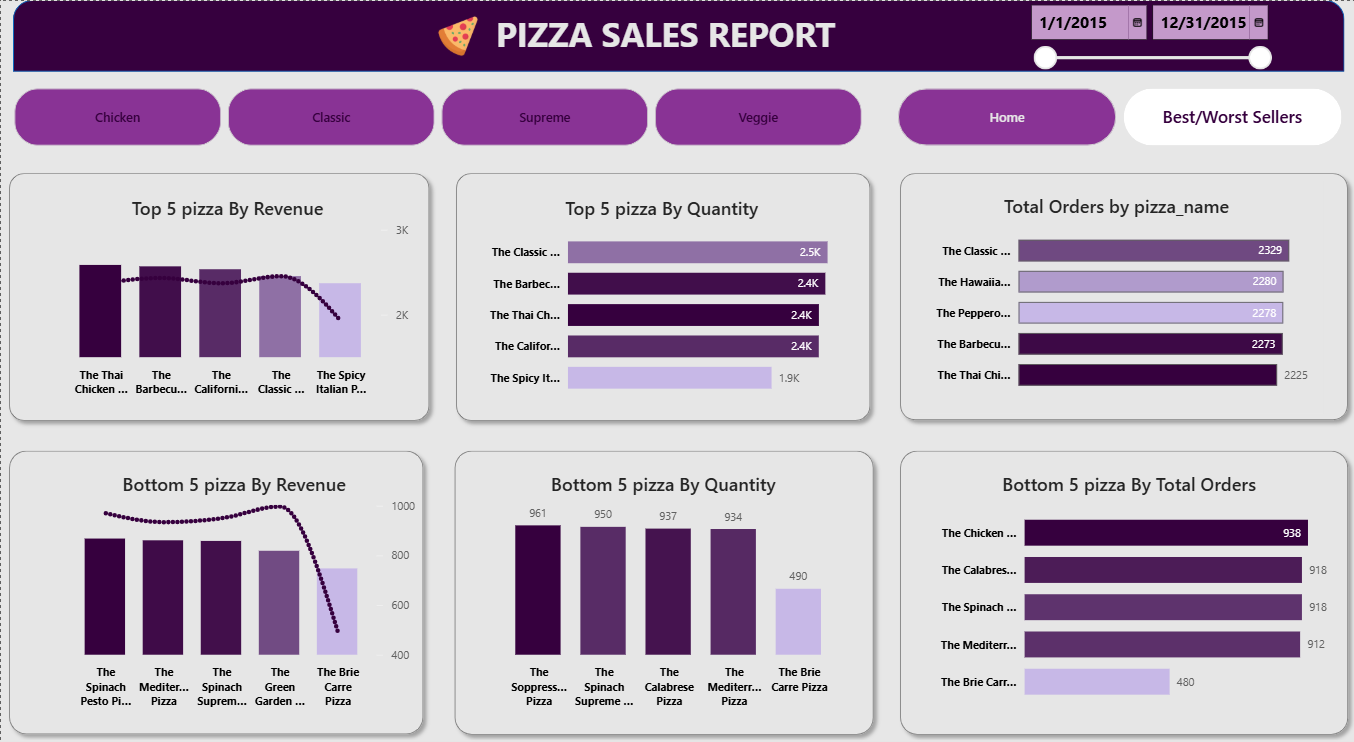

Layout of this report page (visuals, bound fields, positions):
{"tool":"powerbi","page":{"name":"Best/Worst Sellers","canvas":[1500,820],"ordinal":1},"visuals":[{"type":"shape","box":[13.2,0,1471.5,79.2],"z":0},{"type":"shape","box":[494,182.3,475.8,291.8],"z":0,"group":"g1"},{"type":"shape","box":[984.8,182.8,512.8,291],"z":1000},{"type":"shape","box":[0,182.3,482.4,291.8],"z":2000,"group":"g8"},{"type":"textbox","box":[547.1,11.3,445.2,56.6],"z":3000},{"type":"image","box":[483,17,45.3,47.2],"z":4000},{"type":"advancedSlicerVisual","title":"Pizza Category","fields":{"Values":["pizza_sales.pizza_category"]},"box":[14.2,97.6,938.7,63.9],"z":5000},{"type":"slicer","title":"Pizza Category","fields":{"Values":["pizza_sales.order_date"]},"box":[1130.3,0,276.8,79.9],"z":6000},{"type":"pageNavigator","box":[991.9,97.6,491.5,63.9],"z":8000},{"type":"barChart","fields":{"Y":["Table.Total Orders"],"Category":["pizza_sales.pizza_name"]},"box":[1004.6,200.6,456.5,256.5],"z":8000,"group":"g3"},{"type":"group","id":"g1","title":"Group 1","box":[494,182.3,475.8,291.8],"z":9000,"group":"g7"},{"type":"barChart","title":"Top 5 pizza By Quantity ","fields":{"Y":["Sum(pizza_sales.quantity)"],"Category":["pizza_sales.pizza_name"]},"box":[510.6,201.6,439.3,258.3],"z":10000,"group":"g7"},{"type":"lineClusteredColumnComboChart","title":"Top 5 pizza By Revenue","fields":{"Category":["pizza_sales.pizza_name"],"Y":["Table.Total Revenue"],"Y2":["Table.Total Pizzas Sold"]},"box":[33.2,201.6,434.3,254.5],"z":10005,"group":"g2"},{"type":"lineClusteredColumnComboChart","title":"Bottom 5 pizza By Revenue","fields":{"Category":["pizza_sales.pizza_name"],"Y":["Table.Total Revenue"],"Y2":["Table.Total Pizzas Sold"]},"box":[39.6,507.5,435.8,294.3],"z":10005,"group":"g6"},{"type":"barChart","title":"Bottom 5 pizza By Total Orders","fields":{"Y":["Table.Total Orders"],"Category":["pizza_sales.pizza_name"]},"box":[1007.3,507.9,481.1,294.3],"z":10005,"group":"g4"},{"type":"columnChart","title":"Bottom 5 pizza By Quantity","fields":{"Category":["pizza_sales.pizza_name"],"Y":["Sum(pizza_sales.quantity)"]},"box":[511.5,508.8,442.9,294.3],"z":10005,"group":"g5"},{"type":"group","id":"g2","title":"Group 2","box":[33.2,201.6,434.3,254.5],"z":11000,"group":"g8"},{"type":"group","id":"g3","title":"Group 5","box":[1004.6,200.6,457.5,256.9],"z":12000},{"type":"shape","box":[984.8,488.6,513.1,332],"z":13000},{"type":"group","id":"g4","title":"Group 3","box":[991.7,489.9,505.6,330.1],"z":14000},{"type":"shape","box":[492.4,488.6,481.1,332],"z":15000},{"type":"group","id":"g5","title":"Group 3","box":[496.2,489.9,473.5,330.1],"z":16000},{"type":"shape","box":[0,489,475.8,331.5],"z":17000},{"type":"group","id":"g6","title":"Group 3","box":[39.6,507.5,435.8,294.3],"z":17001},{"type":"group","id":"g7","title":"Group 4","box":[494,182.3,475.8,291.8],"z":17002},{"type":"group","id":"g8","title":"Group 6","box":[0,182.3,482.4,291.8],"z":17003}]}

Visuals, with their boxes in screenshot pixels (x1, y1, x2, y2), scaled from the page's 1500x820 canvas onto the 1354x742 screenshot:
shape: crop(12, 0, 1340, 72)
shape: crop(446, 165, 875, 429)
shape: crop(889, 165, 1352, 429)
shape: crop(0, 165, 435, 429)
textbox: crop(494, 10, 896, 61)
image: crop(436, 15, 477, 58)
"Pizza Category" advancedSlicerVisual: crop(13, 88, 860, 146)
"Pizza Category" slicer: crop(1020, 0, 1270, 72)
pageNavigator: crop(895, 88, 1339, 146)
barChart - Table.Total Orders x pizza_sales.pizza_name: crop(907, 182, 1319, 414)
"Group 1" group: crop(446, 165, 875, 429)
"Top 5 pizza By Quantity " barChart: crop(461, 182, 857, 416)
"Top 5 pizza By Revenue" lineClusteredColumnComboChart: crop(30, 182, 422, 413)
"Bottom 5 pizza By Revenue" lineClusteredColumnComboChart: crop(36, 459, 429, 726)
"Bottom 5 pizza By Total Orders" barChart: crop(909, 460, 1344, 726)
"Bottom 5 pizza By Quantity" columnChart: crop(462, 460, 862, 727)
"Group 2" group: crop(30, 182, 422, 413)
"Group 5" group: crop(907, 182, 1320, 414)
shape: crop(889, 442, 1352, 741)
"Group 3" group: crop(895, 443, 1352, 741)
shape: crop(444, 442, 879, 741)
"Group 3" group: crop(448, 443, 875, 741)
shape: crop(0, 442, 429, 741)
"Group 3" group: crop(36, 459, 429, 726)
"Group 4" group: crop(446, 165, 875, 429)
"Group 6" group: crop(0, 165, 435, 429)
